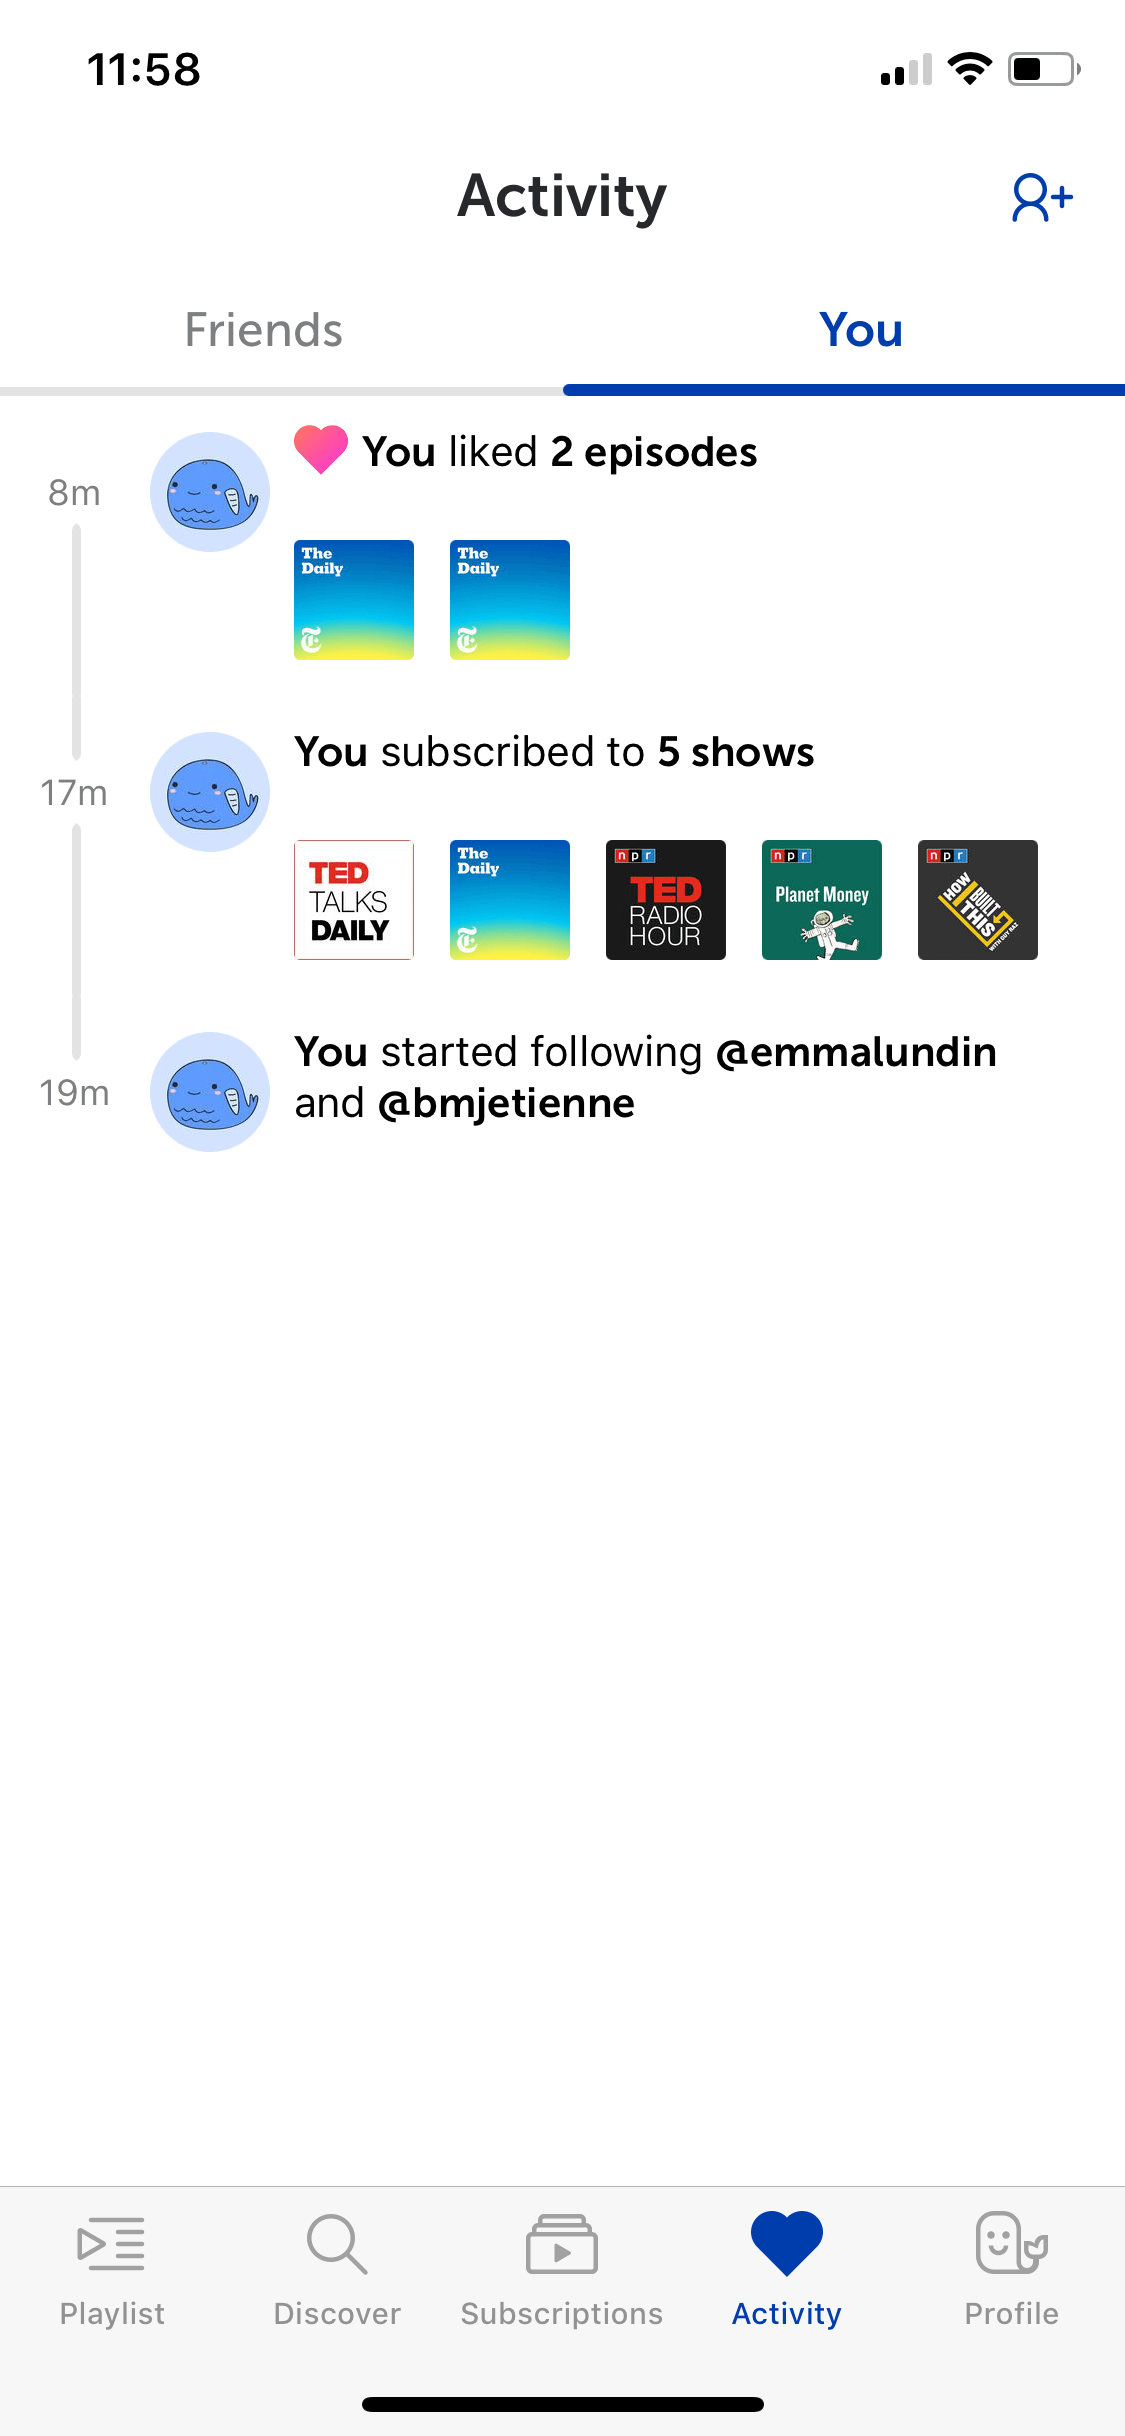Buttons: (977, 130, 1106, 256)
